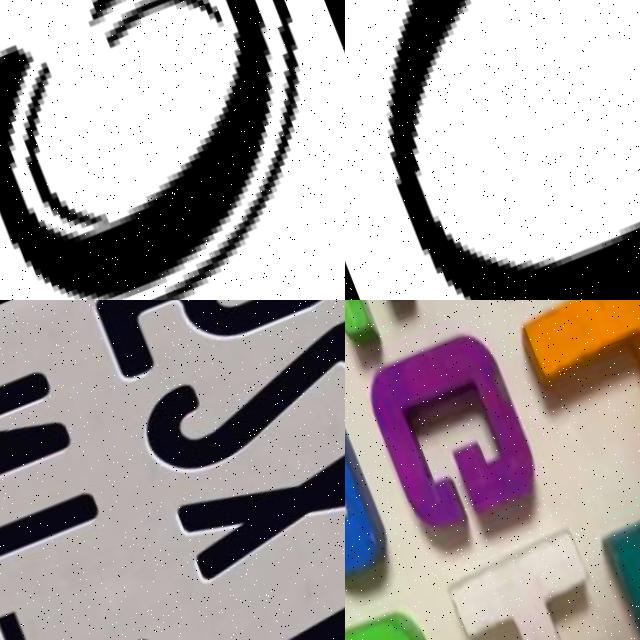2: (125, 310, 345, 493)
4: (220, 547, 345, 640)
5: (0, 0, 345, 300), (91, 300, 345, 387)
B: (345, 398, 387, 609)
F: (345, 300, 472, 346)
G: (361, 340, 544, 551)
H: (444, 535, 639, 640)
L: (510, 300, 640, 492)
N: (0, 366, 72, 541)
X: (169, 417, 345, 583)
Y: (0, 465, 116, 640)
